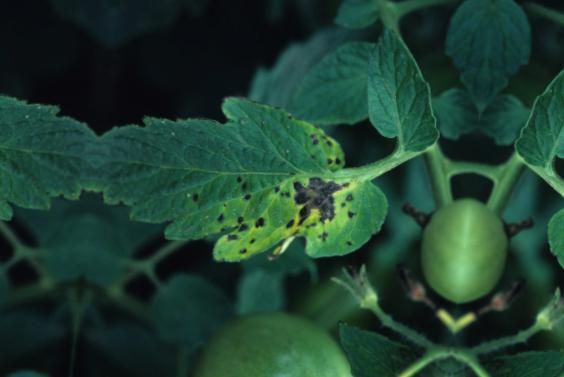Tomato Early blight leaf: (95, 97, 398, 274)
